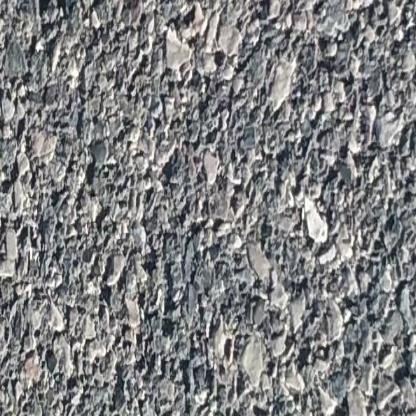Cracks: (11, 0, 110, 9)
